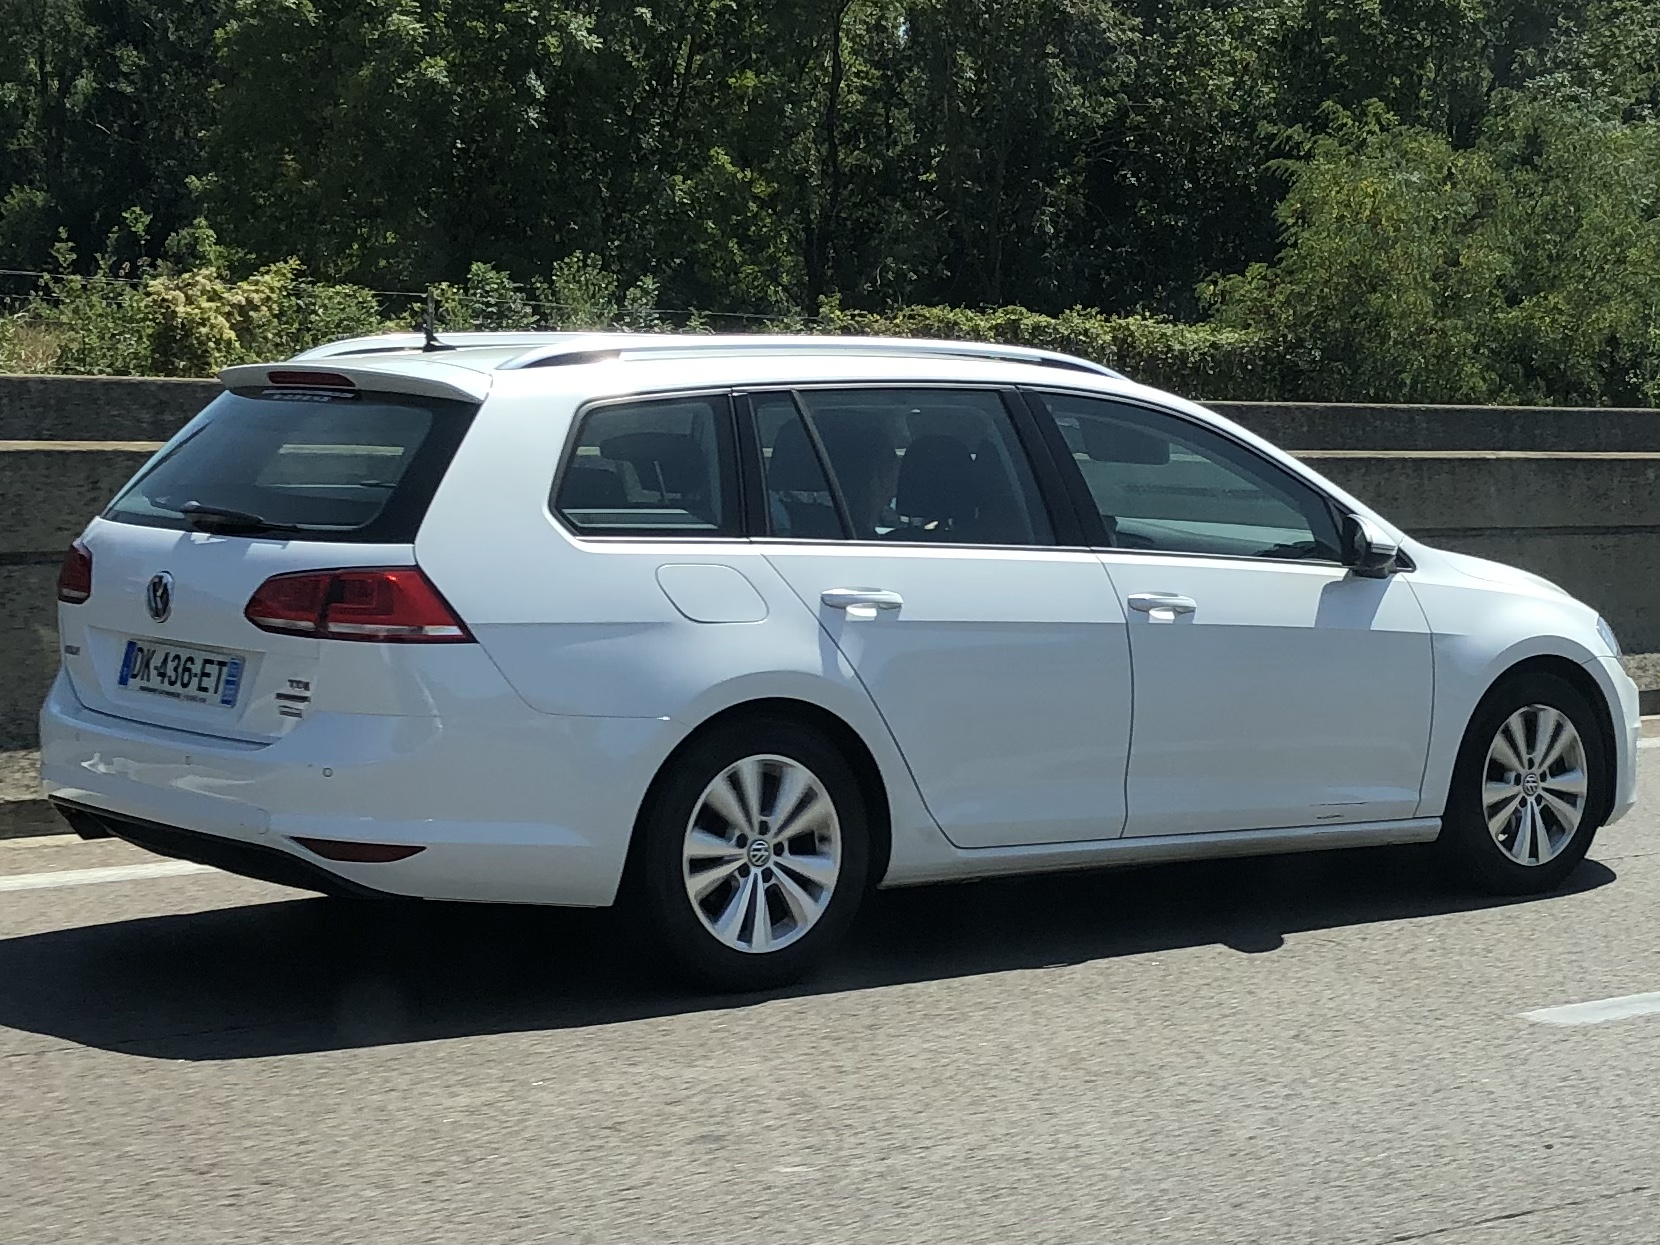licence plate: (113, 633, 248, 713)
